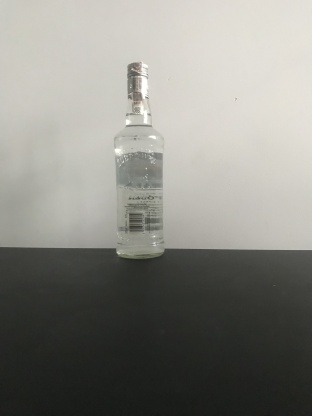nakretka: (125, 59, 150, 99)
